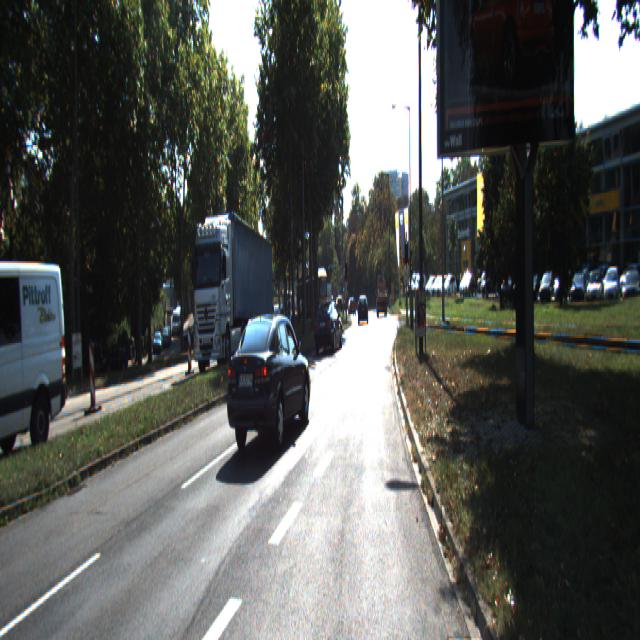Car: (0, 260, 69, 470), (192, 209, 274, 376), (225, 308, 312, 457), (296, 271, 328, 321), (314, 301, 344, 354), (376, 282, 388, 316), (358, 296, 369, 324)
